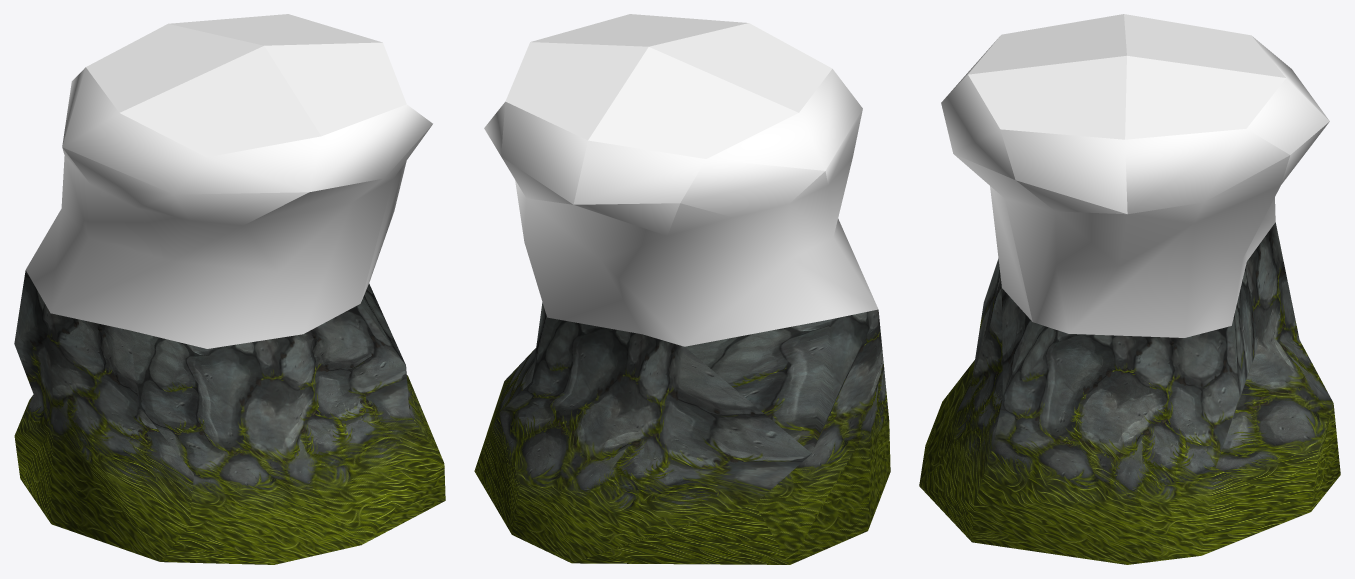
File: PlatformGrass1_LOD1.fbx
3 views of the same model, side by side, from view 1: azimuth 30°, elevation 25°; view 2: azimuth 150°, elevation 25°; view 3: azimuth 270°, elevation 25° (orthographic). The views are drawn at different scales.
Parts seen in each view (by area): view 1: Default_Layer; view 2: Default_Layer; view 3: Default_Layer.
Boxes of the visible parts, bbox=[...] form: Default_Layer: bbox=[14, 14, 445, 564]; Default_Layer: bbox=[474, 14, 890, 564]; Default_Layer: bbox=[919, 14, 1340, 564].
Bounding box in the file's own units: 934 × 1026 × 902.
